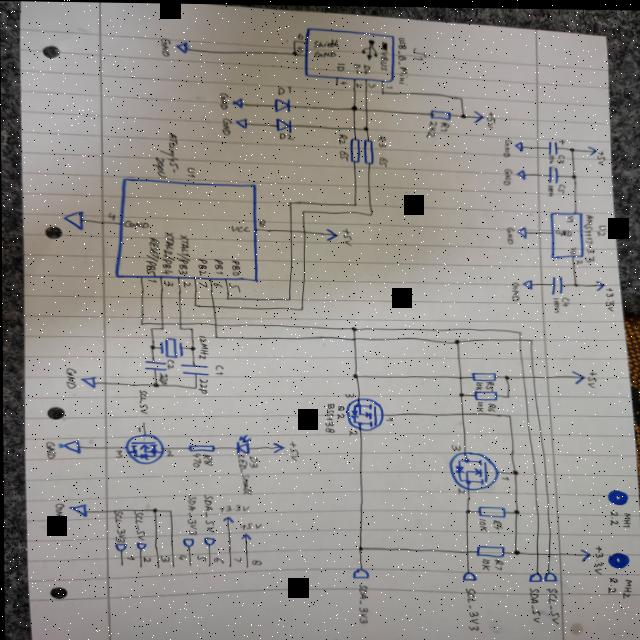capacitor: (180, 362, 210, 374), (548, 136, 566, 154), (551, 273, 565, 293), (144, 359, 167, 369), (547, 163, 559, 181)
crossover: (350, 334, 358, 340), (529, 372, 537, 378), (545, 548, 553, 554), (351, 124, 358, 130), (533, 549, 541, 554), (211, 302, 217, 308), (520, 372, 526, 378), (459, 408, 465, 414), (363, 106, 369, 112), (213, 321, 219, 326), (301, 228, 307, 233), (516, 335, 522, 340), (457, 373, 463, 378), (464, 547, 470, 552), (177, 320, 183, 324), (159, 321, 165, 325), (288, 227, 294, 231)
diode: (236, 433, 252, 453), (274, 96, 292, 112), (276, 116, 293, 132)
ground: (62, 208, 85, 229), (58, 439, 81, 453), (68, 502, 88, 516), (80, 374, 97, 388), (175, 40, 189, 53), (235, 116, 249, 128), (272, 440, 285, 452), (232, 95, 244, 107), (516, 224, 527, 237), (521, 277, 533, 288), (516, 167, 526, 178), (514, 139, 524, 150)
junction: (350, 102, 360, 110), (512, 546, 522, 554), (510, 467, 519, 474), (356, 543, 365, 550), (512, 506, 520, 513), (457, 389, 465, 396), (460, 110, 468, 117), (378, 88, 387, 94), (453, 336, 461, 342), (570, 171, 578, 177), (463, 506, 471, 512), (350, 324, 358, 330), (352, 371, 360, 377), (457, 93, 465, 99), (362, 124, 370, 130), (351, 200, 359, 206), (224, 294, 232, 300), (152, 380, 160, 386), (503, 372, 510, 378), (569, 144, 576, 150), (368, 209, 375, 215), (285, 295, 292, 301), (149, 343, 156, 349), (152, 506, 158, 512), (190, 344, 196, 350), (298, 305, 305, 310), (506, 411, 512, 416), (528, 335, 534, 340), (213, 333, 219, 338), (292, 50, 298, 55), (573, 280, 579, 285), (192, 302, 198, 306), (139, 321, 145, 325), (167, 507, 173, 511), (300, 208, 306, 212), (288, 199, 294, 203), (505, 392, 510, 396), (189, 325, 194, 329), (517, 328, 522, 332), (178, 325, 183, 329), (160, 325, 165, 329), (150, 325, 154, 329), (193, 384, 197, 388), (293, 38, 298, 41)
resistor: (475, 542, 505, 555), (477, 503, 507, 515), (362, 137, 374, 163), (349, 135, 361, 161), (471, 369, 497, 380), (188, 442, 216, 451), (473, 388, 498, 398), (430, 107, 452, 118)
source: (571, 367, 585, 382), (325, 226, 339, 240), (473, 107, 485, 122), (579, 546, 591, 560), (594, 277, 606, 289), (587, 143, 597, 153)
terminal: (350, 565, 370, 578), (460, 569, 478, 580), (202, 534, 216, 544), (181, 536, 195, 546), (543, 569, 557, 579), (528, 570, 542, 580), (221, 514, 235, 522), (114, 542, 128, 550), (240, 531, 252, 539), (135, 541, 147, 549), (119, 562, 124, 566), (228, 563, 232, 567), (139, 564, 143, 568), (156, 565, 161, 568), (171, 564, 176, 567), (188, 562, 192, 565), (207, 563, 211, 566), (245, 564, 249, 567)
text: (160, 130, 180, 172), (464, 583, 480, 629), (160, 230, 176, 273), (144, 236, 161, 276), (176, 233, 192, 273), (237, 453, 252, 493), (583, 211, 595, 261), (397, 34, 409, 84), (356, 581, 370, 623), (112, 509, 127, 542), (186, 493, 198, 534), (203, 492, 215, 531), (547, 585, 559, 622), (528, 585, 540, 621), (133, 509, 146, 540), (136, 388, 150, 414), (592, 542, 604, 572), (324, 401, 336, 431), (152, 155, 168, 177), (218, 502, 252, 512), (123, 217, 151, 229), (64, 366, 78, 388), (197, 333, 209, 357), (339, 225, 353, 245), (313, 36, 341, 46), (159, 36, 172, 57), (288, 439, 300, 461), (604, 285, 615, 309), (53, 502, 66, 521), (212, 256, 225, 274), (220, 117, 233, 135), (196, 257, 209, 275), (219, 91, 231, 110), (485, 109, 497, 127), (228, 222, 252, 231), (502, 166, 514, 184), (45, 440, 57, 458), (587, 368, 599, 386), (426, 118, 438, 136), (510, 279, 520, 300), (502, 137, 513, 156), (313, 48, 339, 56), (241, 520, 264, 529), (229, 258, 241, 275), (622, 576, 632, 596), (380, 49, 390, 69), (413, 45, 427, 59), (505, 224, 515, 242), (594, 148, 606, 163), (607, 574, 617, 592), (197, 376, 208, 392), (608, 508, 619, 524), (477, 516, 489, 530), (554, 226, 572, 235), (621, 509, 631, 525), (277, 84, 293, 94), (192, 451, 202, 467), (596, 221, 608, 234), (214, 362, 226, 374), (157, 371, 169, 383), (202, 452, 213, 465), (377, 132, 387, 146), (186, 165, 197, 177), (338, 148, 349, 160), (491, 517, 503, 528), (439, 119, 451, 130), (228, 281, 241, 291), (480, 555, 490, 568), (552, 295, 560, 311), (278, 131, 294, 139), (336, 402, 344, 418), (492, 557, 503, 568), (248, 454, 258, 466), (378, 154, 388, 166), (338, 132, 348, 144), (557, 181, 567, 192), (556, 151, 566, 162), (212, 554, 224, 563), (547, 182, 555, 195), (486, 400, 496, 410), (484, 379, 494, 389), (336, 60, 346, 70), (560, 294, 570, 304), (362, 62, 371, 73), (450, 441, 462, 449), (166, 357, 174, 369), (353, 61, 361, 73), (107, 210, 117, 219), (474, 379, 484, 388), (198, 279, 209, 287), (475, 399, 483, 410), (251, 557, 263, 564), (182, 279, 192, 287), (165, 448, 175, 456), (196, 553, 206, 561), (160, 553, 170, 561), (565, 213, 575, 221), (163, 278, 174, 285), (212, 280, 223, 287), (258, 217, 266, 226), (115, 448, 123, 457), (456, 485, 465, 493), (548, 152, 555, 162), (347, 428, 358, 434), (344, 390, 355, 396), (569, 244, 577, 252), (368, 80, 377, 87), (384, 82, 393, 89), (142, 555, 151, 562), (297, 30, 304, 39), (232, 555, 242, 561), (177, 553, 187, 559), (125, 554, 135, 560), (385, 414, 394, 420), (136, 425, 143, 432), (298, 44, 304, 52), (146, 277, 158, 281), (355, 80, 363, 86), (575, 256, 583, 262), (501, 473, 509, 478), (339, 79, 348, 83)
transistor: (448, 448, 499, 489), (345, 395, 384, 429), (125, 432, 165, 463)
